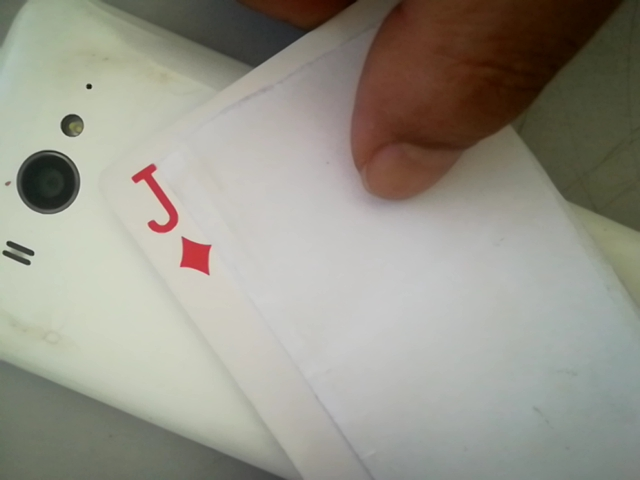fk j: (122, 157, 217, 282)
